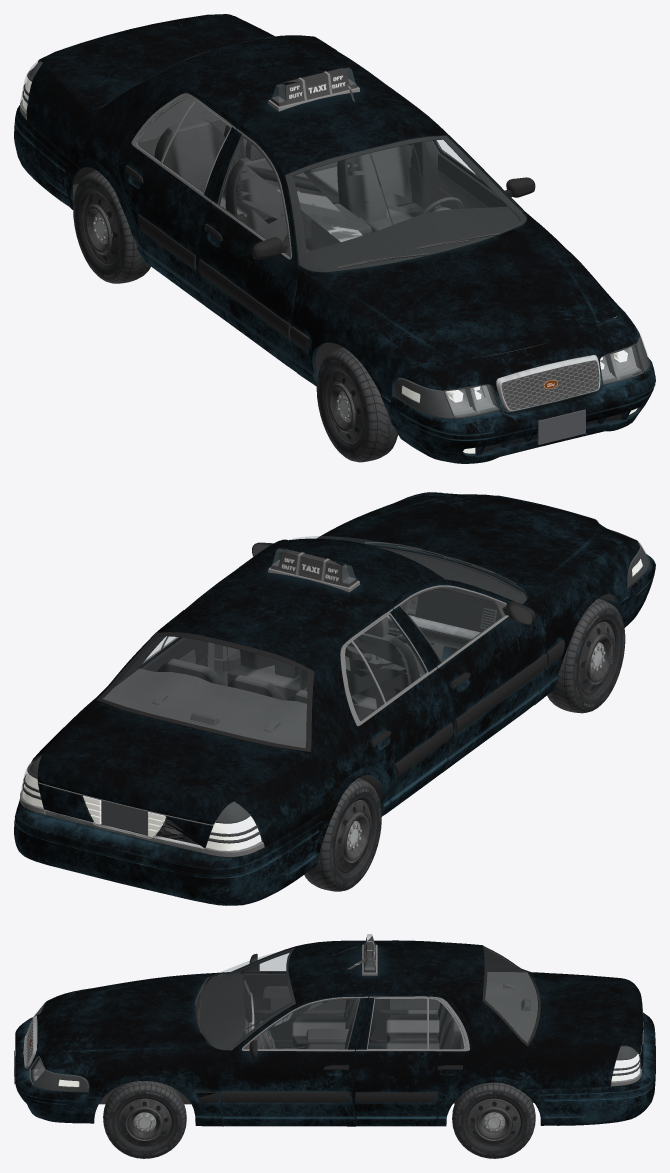
The model's file is sedan.glb.
The picture shows the model from 3 angles, top to bottom: view 1: azimuth 30°, elevation 25°; view 2: azimuth 150°, elevation 25°; view 3: azimuth 270°, elevation 25°; orthographic projection. The views are drawn at different scales.
Visible parts, largest first — view 1: Vehicle_Base--MI_BodyWork_FordCrown, Vehicle_Base--MI_Details1_FordCrown, SM_Glass_FordCrown_Ext1--0--component-7, SM_Ford_CrownDoor_Front_R--0, SM_Ford_CrownDoor_Rear_R--1, Wheel_Front_Right--MI_Details1_FordCrown, Wheel_Rear_Right--MI_Details1_FordCrown, SM_Glass_doorR_FordCrown_Rear_ext1--0, SM_Glass_doorR_FordCrown_ext1--0, SM_Ford_CrownDoor_Front_R--1, SM_Ford_CrownDoor_Front_L--1, SM_Glass_FordCrown_Ext1--0--component-9 (+5 smaller); view 2: Vehicle_Base--MI_BodyWork_FordCrown, Vehicle_Base--MI_Details1_FordCrown, SM_Glass_FordCrown_Ext1--0--component-4, SM_Ford_CrownDoor_Front_R--0, SM_Ford_CrownDoor_Rear_R--1, Wheel_Front_Right--MI_Details1_FordCrown, Wheel_Rear_Right--MI_Details1_FordCrown, SM_Glass_doorR_FordCrown_Rear_ext1--0, SM_Glass_doorR_FordCrown_ext1--0, SM_Ford_CrownDoor_Front_R--1, SM_Glass_FordCrown_Ext1--0--component-7, SM_Ford_CrownDoor_Rear_R--0 (+6 smaller); view 3: Vehicle_Base--MI_BodyWork_FordCrown, Vehicle_Base--MI_Details1_FordCrown, SM_Ford_CrownDoor_Front_L--0, SM_Ford_CrownDoor_Rear_L--0, SM_Glass_FordCrown_Ext1--0--component-7, Wheel_Front_Left--MI_Details1_FordCrown, Wheel_Rear_Left--MI_Details1_FordCrown, SM_Glass_doorL_FordCrown_Rear_ext1--0, SM_Glass_doorL_FordCrown_ext1--0, SM_Glass_FordCrown_Ext1--0--component-4, SM_Ford_CrownDoor_Front_R--1, SM_Ford_CrownDoor_Front_L--1 (+5 smaller).
Part boxes in pixels (<box>): Vehicle_Base--MI_BodyWork_FordCrown: <box>14,14,655,463</box>; Vehicle_Base--MI_Details1_FordCrown: <box>20,35,648,452</box>; SM_Glass_FordCrown_Ext1--0--component-7: <box>285,135,526,271</box>; SM_Ford_CrownDoor_Front_R--0: <box>198,124,298,372</box>; SM_Ford_CrownDoor_Rear_R--1: <box>118,88,238,305</box>; Wheel_Front_Right--MI_Details1_FordCrown: <box>316,347,398,462</box>; Wheel_Rear_Right--MI_Details1_FordCrown: <box>73,170,150,283</box>; SM_Glass_doorR_FordCrown_Rear_ext1--0: <box>138,98,229,191</box>; SM_Glass_doorR_FordCrown_ext1--0: <box>219,137,286,241</box>; SM_Ford_CrownDoor_Front_R--1: <box>198,129,291,339</box>; SM_Ford_CrownDoor_Front_L--1: <box>434,140,535,210</box>; SM_Glass_FordCrown_Ext1--0--component-9: <box>393,378,499,418</box>; Vehicle_Base--MI_BodyWork_FordCrown: <box>14,492,655,905</box>; Vehicle_Base--MI_Details1_FordCrown: <box>20,508,648,856</box>; SM_Glass_FordCrown_Ext1--0--component-4: <box>104,637,307,747</box>; SM_Ford_CrownDoor_Front_R--0: <box>389,579,545,772</box>; SM_Ford_CrownDoor_Rear_R--1: <box>336,605,453,813</box>; Wheel_Front_Right--MI_Details1_FordCrown: <box>547,598,625,713</box>; Wheel_Rear_Right--MI_Details1_FordCrown: <box>304,778,381,891</box>; SM_Glass_doorR_FordCrown_Rear_ext1--0: <box>345,615,426,720</box>; SM_Glass_doorR_FordCrown_ext1--0: <box>402,589,500,660</box>; SM_Ford_CrownDoor_Front_R--1: <box>393,585,547,733</box>; SM_Glass_FordCrown_Ext1--0--component-7: <box>290,536,526,603</box>; SM_Ford_CrownDoor_Rear_R--0: <box>340,608,453,776</box>; Vehicle_Base--MI_BodyWork_FordCrown: <box>15,940,655,1126</box>; Vehicle_Base--MI_Details1_FordCrown: <box>23,936,643,1104</box>; SM_Ford_CrownDoor_Front_L--0: <box>219,993,369,1126</box>; SM_Ford_CrownDoor_Rear_L--0: <box>352,993,477,1126</box>; SM_Glass_FordCrown_Ext1--0--component-7: <box>195,948,294,1049</box>; Wheel_Front_Left--MI_Details1_FordCrown: <box>103,1081,186,1158</box>; Wheel_Rear_Left--MI_Details1_FordCrown: <box>452,1082,535,1158</box>; SM_Glass_doorL_FordCrown_Rear_ext1--0: <box>368,999,463,1048</box>; SM_Glass_doorL_FordCrown_ext1--0: <box>260,1000,357,1048</box>; SM_Glass_FordCrown_Ext1--0--component-4: <box>486,949,537,1041</box>; SM_Ford_CrownDoor_Front_R--1: <box>242,953,346,1044</box>; SM_Ford_CrownDoor_Front_L--1: <box>221,996,368,1102</box>.
Bounding box in the file's own units: 1.95 × 1.57 × 5.37.
5 materials, 2 textured.
